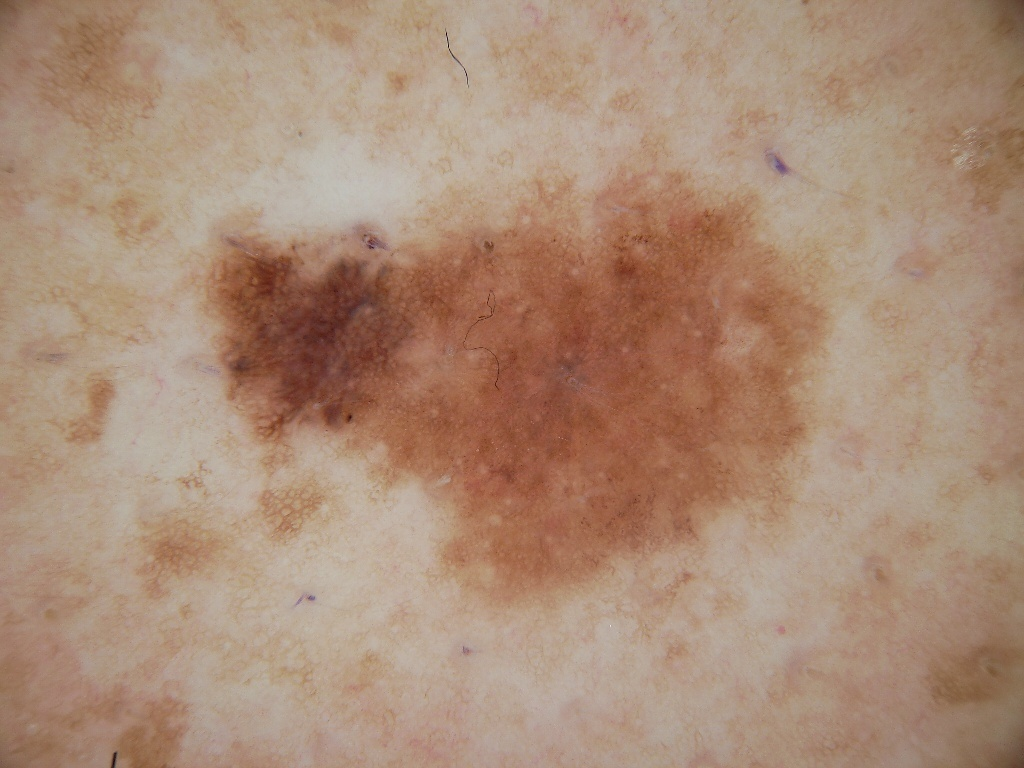Detected Lesion: (189, 159, 838, 626)
